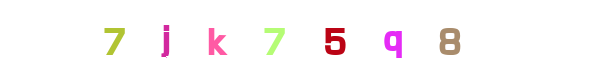5: (294, 0, 374, 80)
7: (75, 0, 155, 80), (257, 0, 337, 80)
8: (397, 0, 477, 80)
J: (156, 0, 236, 80)
K: (229, 0, 309, 80)
Q: (354, 0, 434, 80)
